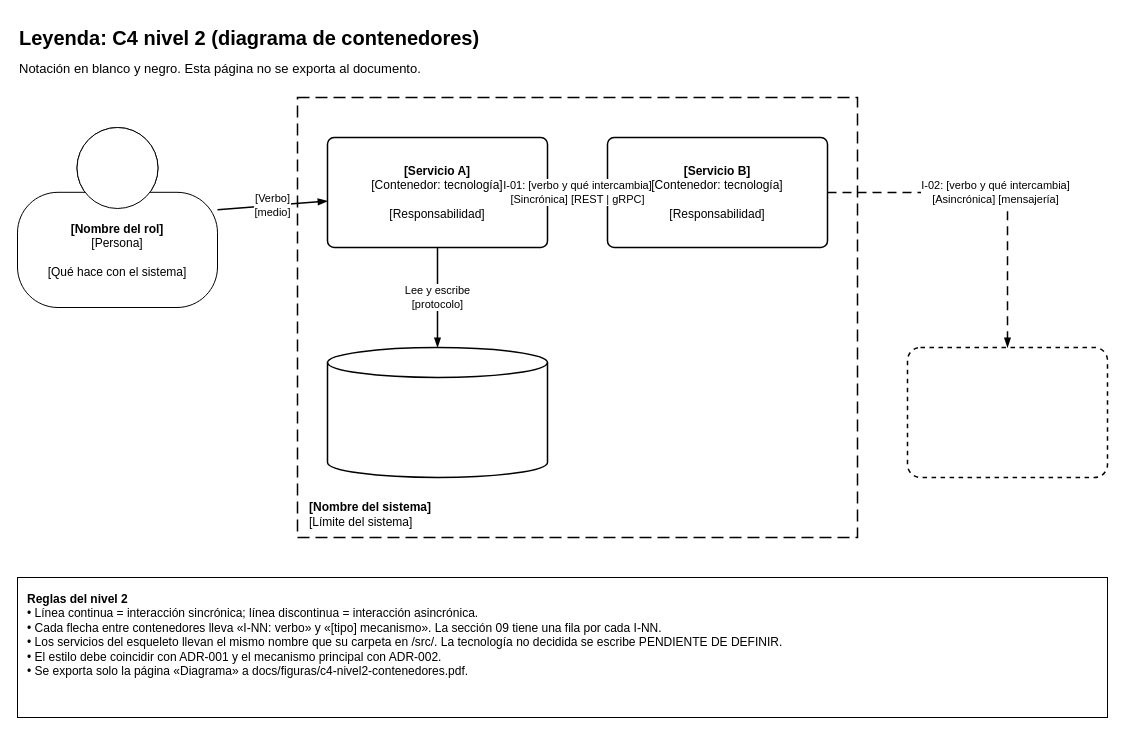
Image size: 1126x735. Some labels were removed from this diagram. The centre of each missing label's shape, as x and y in pixels:
"[Base de datos] [Contenedor: motor] [Qué datos guarda]" goes at (437,412).
"[Nombre del sistema externo] [Sistema externo] [Qué aporta]" goes at (1007,412).
